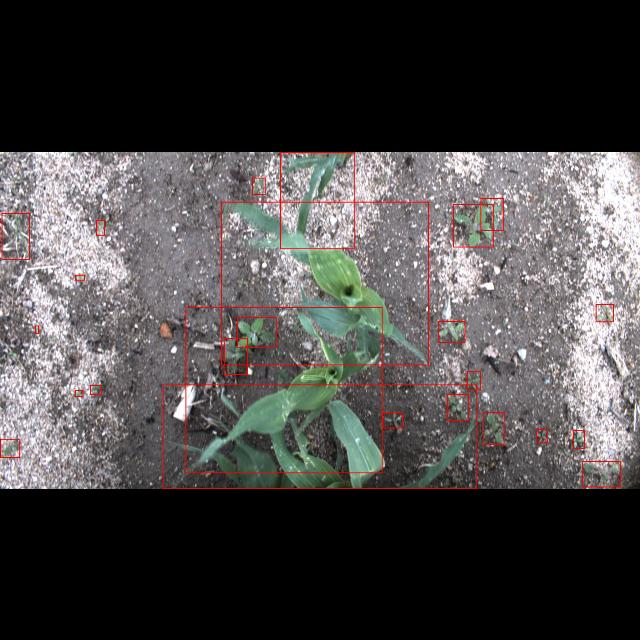crop: (222, 202, 428, 364), (163, 384, 477, 488), (186, 307, 382, 473), (281, 152, 355, 248)
weed: (453, 204, 493, 246), (1, 212, 28, 258), (237, 317, 277, 347), (582, 462, 620, 486), (225, 338, 248, 374), (481, 198, 503, 230), (484, 412, 504, 444), (438, 321, 466, 342), (448, 394, 468, 420), (1, 439, 20, 457), (383, 412, 403, 428), (596, 303, 612, 321), (252, 176, 266, 194), (468, 371, 480, 389), (574, 430, 584, 448), (536, 428, 548, 442), (90, 384, 102, 394), (96, 220, 104, 234), (75, 389, 83, 396), (76, 274, 84, 280), (36, 326, 38, 332)
